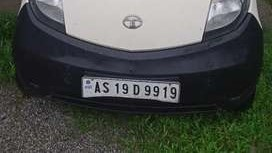AS19D9919: (81, 76, 179, 102)
